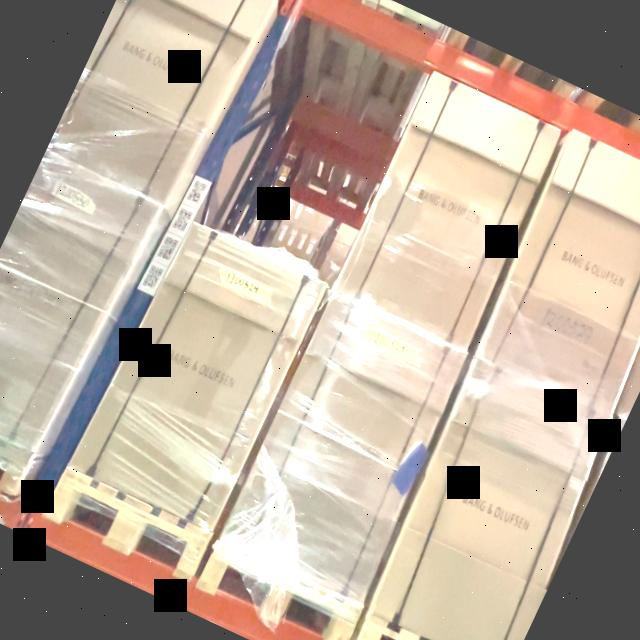box: (217, 289, 469, 605), (70, 225, 327, 531), (334, 71, 561, 349), (479, 130, 640, 418)
